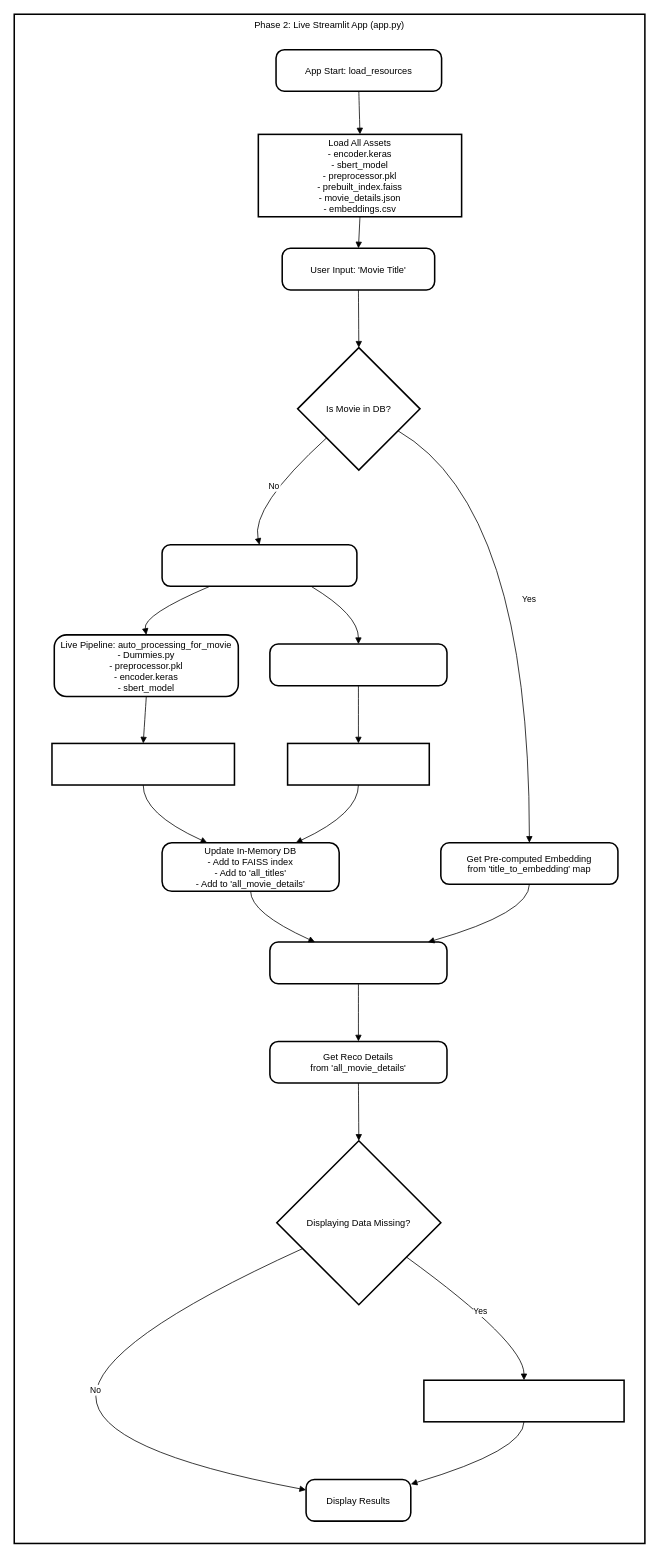
Some shapes in this 658 by 1557 pixel diagram are drawn without their labels. Here are the shapes that lost their labels. From the top down, the centre of each, then its label:
(259,565): Scrap2.py: fetch_movie_data_for_processing
(358,664): Scrap2.py: fetch_movie_data_for_display
(143,763): New 416-dim Embedding
(358,763): New Display Data
(358,962): Get FAISS Recommendations
(523,1400): Scrap2.py: Patch Data (with year_hint)
